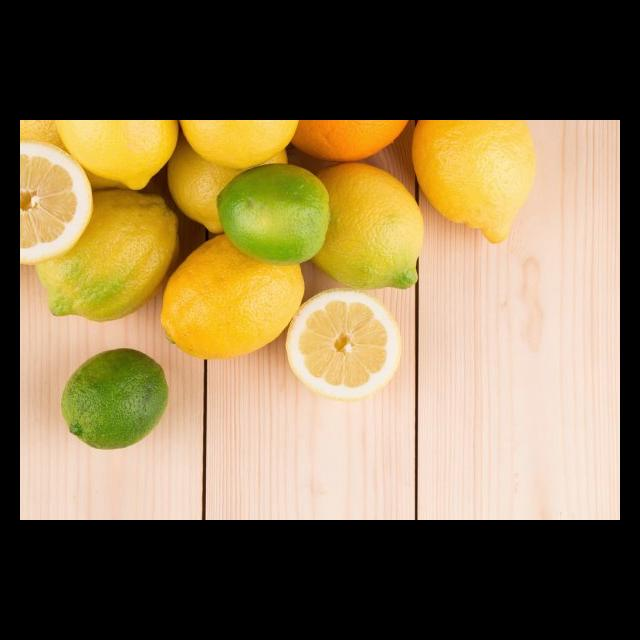lime: (56, 333, 171, 454), (215, 161, 332, 265)
